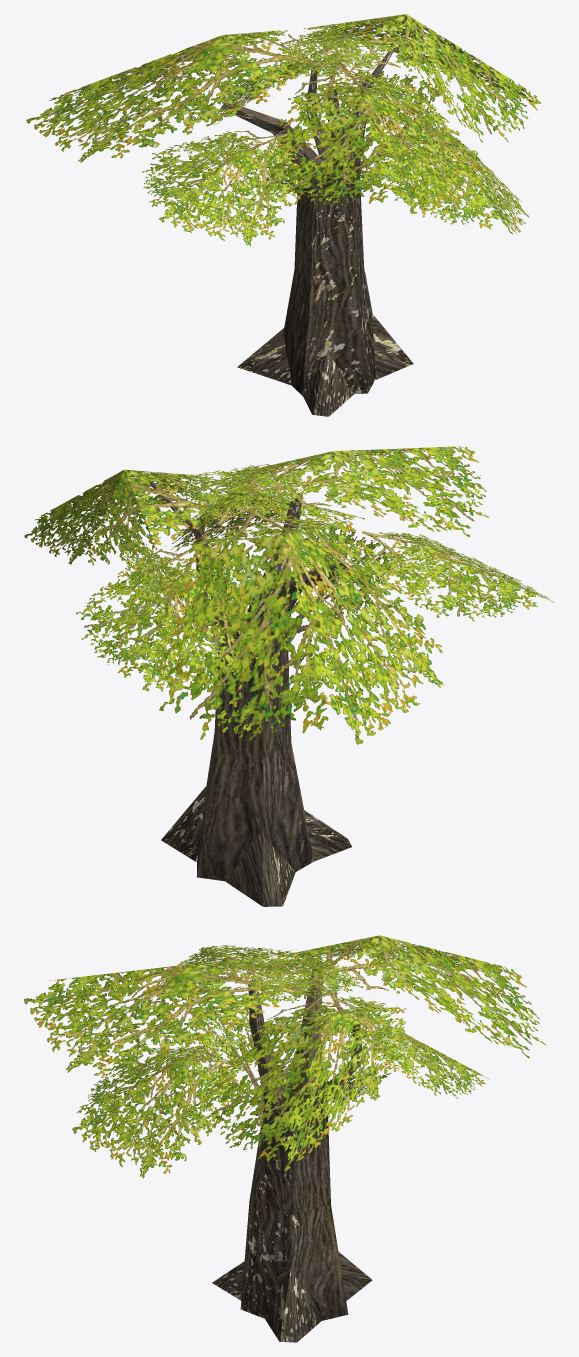
File: Canopy.obj
3 views of the same model, one above another, from view 1: azimuth 30°, elevation 25°; view 2: azimuth 150°, elevation 25°; view 3: azimuth 270°, elevation 25° (orthographic). The views are drawn at different scales.
Visible parts, largest first — view 1: Vcanopy03-00.Vcanopy03-33_Vcanopy03-00; view 2: Vcanopy03-00.Vcanopy03-33_Vcanopy03-00; view 3: Vcanopy03-00.Vcanopy03-33_Vcanopy03-00.
Boxes of the visible parts, x1=… form: Vcanopy03-00.Vcanopy03-33_Vcanopy03-00: x1=26, y1=14, x2=540, y2=416; Vcanopy03-00.Vcanopy03-33_Vcanopy03-00: x1=24, y1=446, x2=554, y2=906; Vcanopy03-00.Vcanopy03-33_Vcanopy03-00: x1=24, y1=935, x2=546, y2=1342.
Bounding box in the file's own units: 1.92 × 1.34 × 2.
5 materials, 5 textured.
